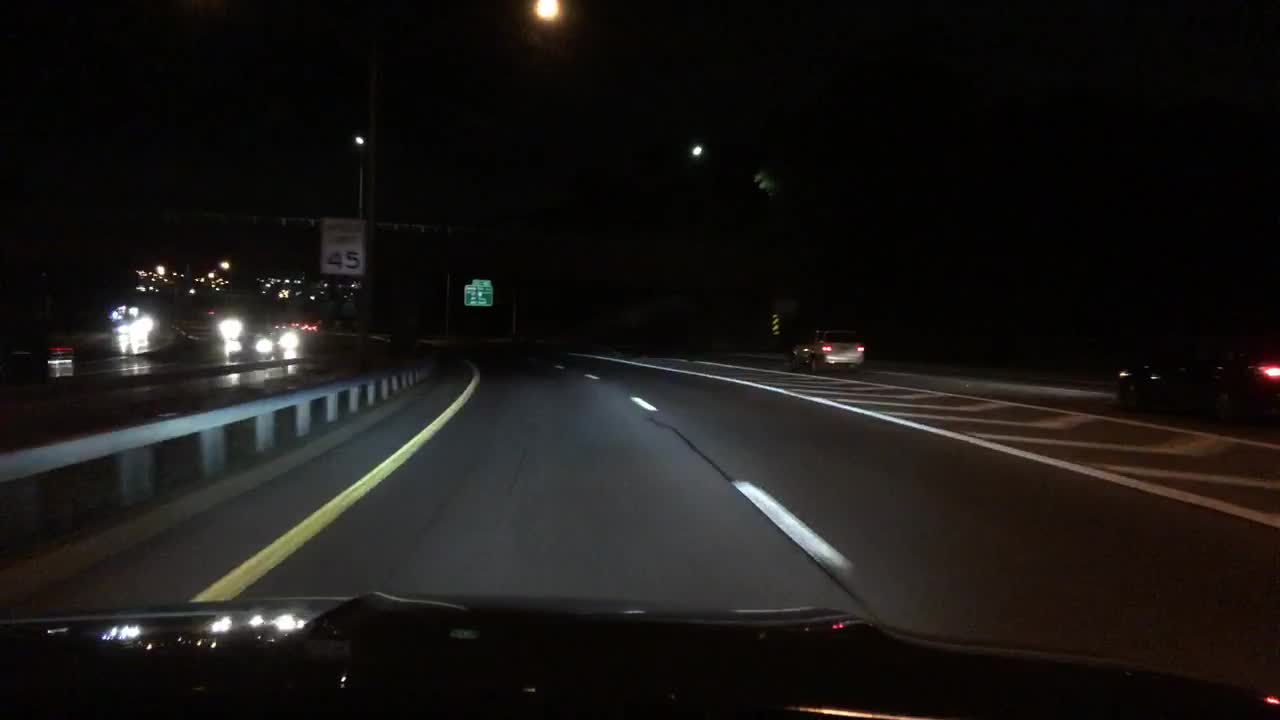car: (1114, 327, 1278, 427), (791, 324, 866, 375), (175, 306, 253, 346), (254, 329, 303, 361), (386, 335, 422, 356)
traffic sign: (321, 216, 366, 278), (464, 277, 496, 307)
